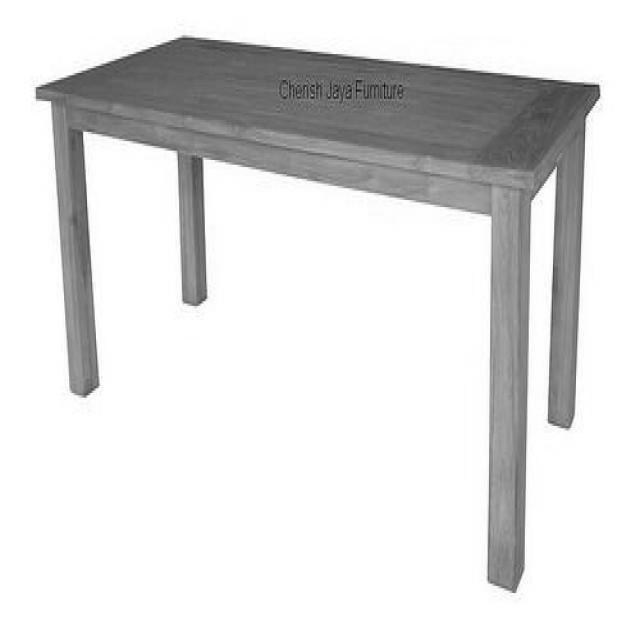table: (36, 35, 602, 595)
